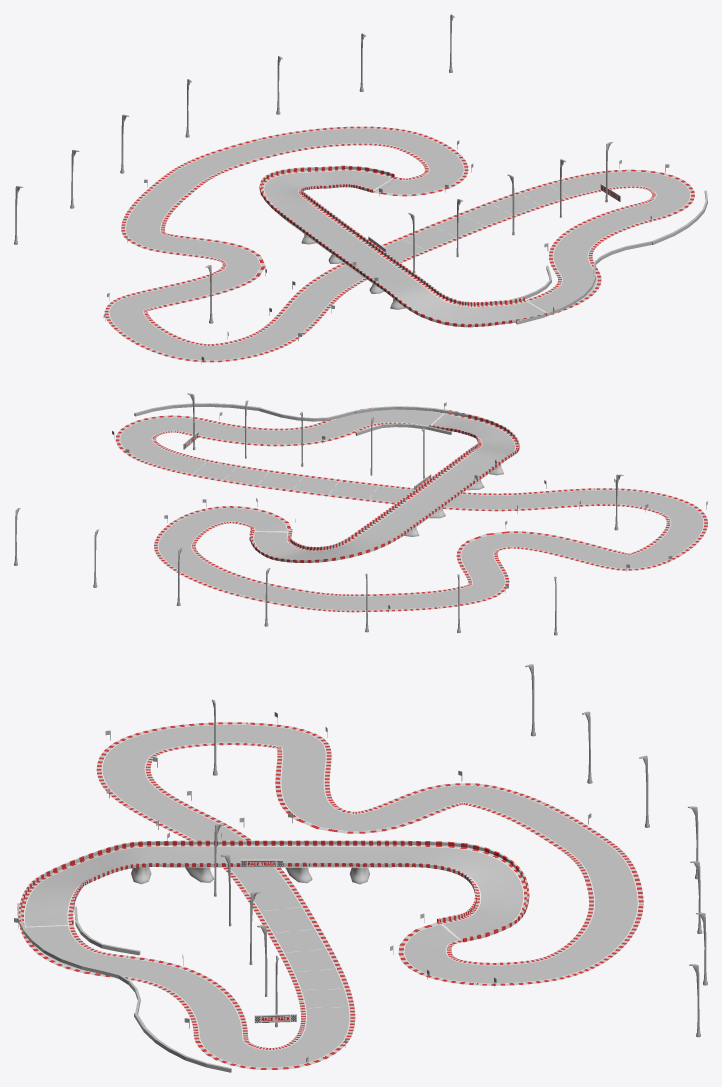
The model's file is n_Race_Track.FBX.
The picture shows the model from 3 angles, top to bottom: view 1: azimuth 30°, elevation 25°; view 2: azimuth 150°, elevation 25°; view 3: azimuth 270°, elevation 25°; orthographic projection. The views are drawn at different scales.
Parts seen in each view (by area): view 1: track-bridge01, lamp-posts, cementFence; view 2: track-bridge01, cementFence, lamp-posts, bridge-supports; view 3: track-bridge01, lamp-posts, cementFence, bridge-supports, ad.
Part boxes in pixels (bbox=[...]): track-bridge01: bbox=[104, 126, 694, 362]; lamp-posts: bbox=[14, 14, 612, 323]; cementFence: bbox=[508, 190, 707, 324]; track-bridge01: bbox=[115, 406, 707, 612]; cementFence: bbox=[134, 403, 478, 435]; lamp-posts: bbox=[14, 393, 623, 635]; bridge-supports: bbox=[401, 464, 503, 537]; track-bridge01: bbox=[18, 722, 643, 1069]; lamp-posts: bbox=[212, 664, 707, 1037]; cementFence: bbox=[17, 903, 231, 1072]; bridge-supports: bbox=[131, 866, 412, 884]; ad: bbox=[240, 859, 296, 1023].
Size of the model in its own units: 115 by 10.97 by 96.35.
